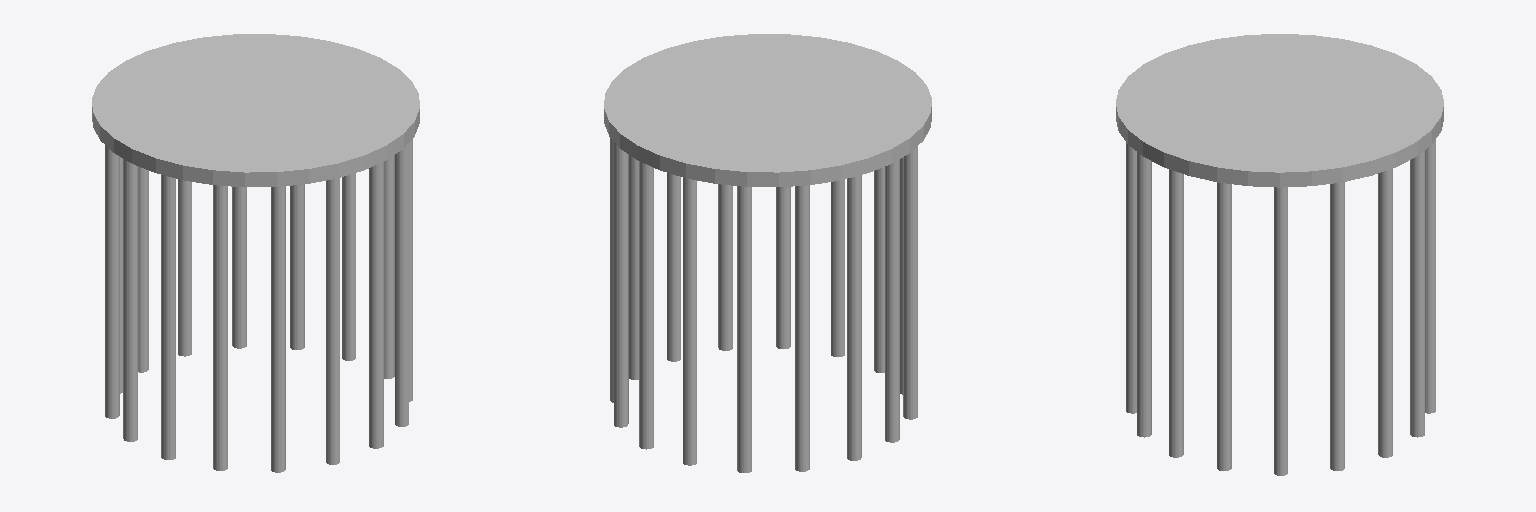
The model's file is jail.obj.
The picture shows the model from 3 angles: view 1: azimuth 30°, elevation 25°; view 2: azimuth 150°, elevation 25°; view 3: azimuth 270°, elevation 25°; orthographic projection.
Parts seen in each view (by area): view 1: Cylinder, Cylinder.014, Cylinder.006, Cylinder.012, Cylinder.010, Cylinder.002, Cylinder.015, Cylinder.004, Cylinder.008, Cylinder.009, Cylinder.005, Cylinder.003 (+5 smaller); view 2: Cylinder, Cylinder.011, Cylinder.007, Cylinder.013, Cylinder.015, Cylinder.002, Cylinder.005, Cylinder.003, Cylinder.010, Cylinder.016, Cylinder.008, Cylinder.004 (+5 smaller); view 3: Cylinder, Cylinder.009, Cylinder.016, Cylinder.005, Cylinder.008, Cylinder.013, Cylinder.012, Cylinder.001, Cylinder.003, Cylinder.004.
Part boxes in pixels (x1,y1,x2,y2): Cylinder: (92,34,419,186); Cylinder.014: (271,186,285,472); Cylinder.006: (213,185,227,470); Cylinder.012: (369,162,383,448); Cylinder.010: (161,175,175,459); Cylinder.002: (123,159,137,441); Cylinder.015: (105,145,119,418); Cylinder.004: (326,178,339,464); Cylinder.008: (395,143,408,426); Cylinder.009: (342,173,355,360); Cylinder.005: (290,184,304,349); Cylinder.003: (178,179,191,356); Cylinder: (604,34,931,186); Cylinder.011: (737,186,751,472); Cylinder.007: (795,185,809,471); Cylinder.013: (639,161,653,449); Cylinder.015: (847,175,861,460); Cylinder.002: (885,159,899,442); Cylinder.005: (614,142,628,427); Cylinder.003: (683,178,696,465); Cylinder.010: (903,146,917,419); Cylinder.016: (667,173,680,361); Cylinder.008: (718,184,732,350); Cylinder.004: (831,179,844,356); Cylinder: (1116,34,1443,187); Cylinder.009: (1330,182,1344,470); Cylinder.016: (1217,182,1231,470); Cylinder.005: (1378,169,1392,457); Cylinder.008: (1169,169,1183,457); Cylinder.013: (1410,151,1424,437); Cylinder.012: (1137,152,1151,437); Cylinder.001: (1274,187,1287,475); Cylinder.003: (1425,140,1435,413); Cylinder.004: (1126,143,1136,413).
Bounding box in the file's own units: 2 × 2.05 × 2.